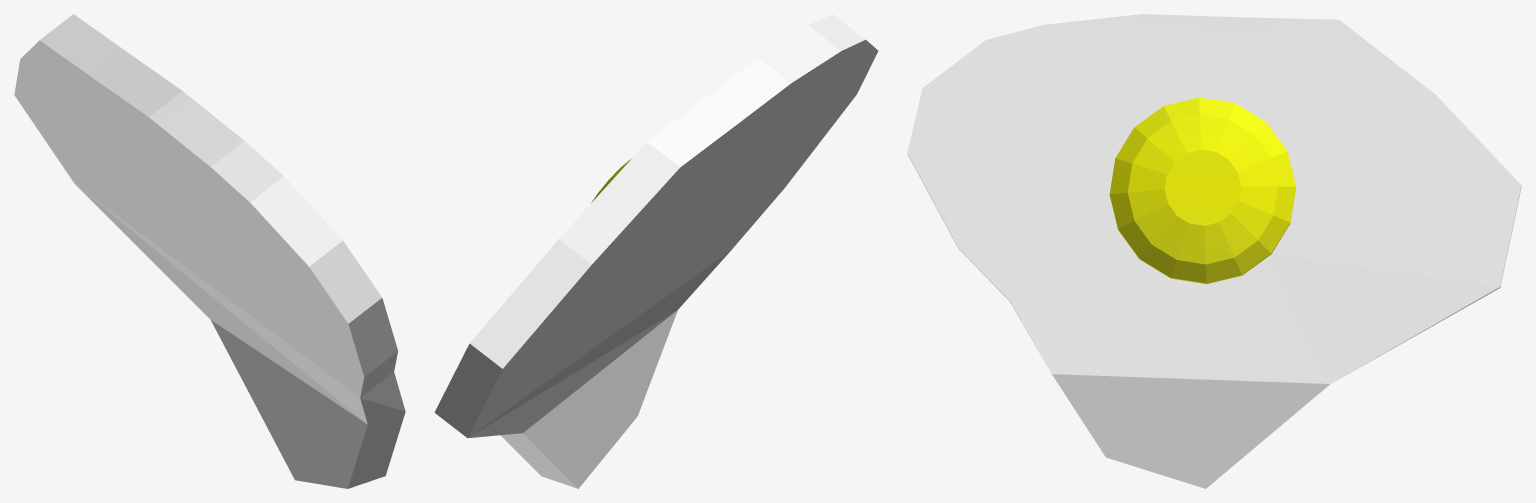
The model's file is FOREHEAD EGG.fbx.
The picture shows the model from 3 angles, left to right: view 1: azimuth 30°, elevation 25°; view 2: azimuth 150°, elevation 25°; view 3: azimuth 270°, elevation 25°; orthographic projection. The views are drawn at different scales.
Parts seen in each view (by area): view 1: FOREHEAD_EGG; view 2: FOREHEAD_EGG; view 3: FOREHEAD_EGG.
Boxes of the visible parts, x1,y1,x2,y2 form: FOREHEAD_EGG: [14, 14, 405, 488]; FOREHEAD_EGG: [434, 14, 878, 488]; FOREHEAD_EGG: [907, 14, 1521, 488].
Bounding box in the file's own units: 2.72 × 5.34 × 7.47.
